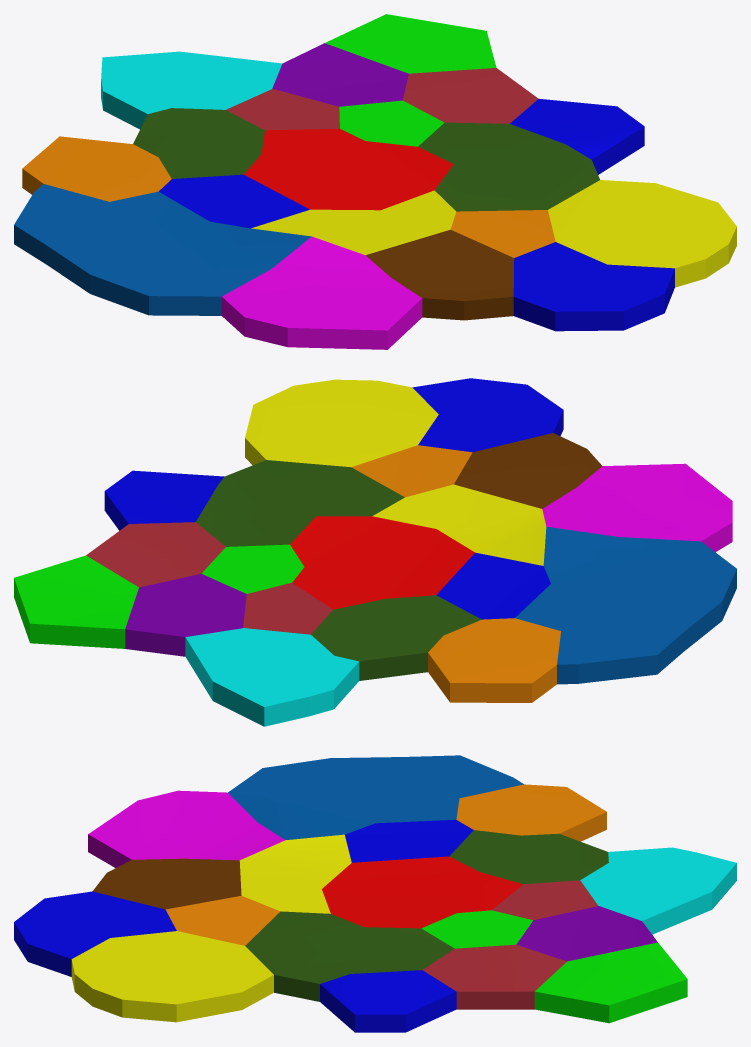
Rendered from glacial.fbx.
3 renders of one model, top to bottom at view 1: azimuth 30°, elevation 25°; view 2: azimuth 150°, elevation 25°; view 3: azimuth 270°, elevation 25°, orthographic. The views are drawn at different scales.
Parts seen in each view (by area): view 1: polySurface11, polySurface9, polySurface2, polySurface31, polySurface21, polySurface4, polySurface36, polySurface7, polySurface35, polySurface13, polySurface25, polySurface17 (+7 smaller); view 2: polySurface11, polySurface2, polySurface31, polySurface36, polySurface9, polySurface21, polySurface13, polySurface25, polySurface35, polySurface4, polySurface17, polySurface27 (+7 smaller); view 3: polySurface11, polySurface2, polySurface21, polySurface31, polySurface9, polySurface36, polySurface25, polySurface4, polySurface6, polySurface17, polySurface23, polySurface13 (+7 smaller).
Boxes of the visible parts, x1,y1,x2,y2 form: polySurface11: (14, 184, 311, 315); polySurface9: (221, 236, 422, 349); polySurface2: (548, 180, 736, 287); polySurface31: (244, 128, 453, 210); polySurface21: (418, 122, 599, 211); polySurface4: (513, 242, 674, 331); polySurface36: (101, 51, 282, 129); polySurface7: (365, 229, 514, 320); polySurface35: (133, 108, 264, 178); polySurface13: (22, 136, 171, 201); polySurface25: (325, 14, 496, 73); polySurface17: (251, 190, 456, 255); polySurface11: (515, 526, 736, 684); polySurface2: (245, 379, 438, 467); polySurface31: (290, 516, 474, 609); polySurface36: (185, 628, 359, 726); polySurface9: (542, 463, 732, 552); polySurface21: (196, 460, 404, 546); polySurface13: (428, 618, 560, 702); polySurface25: (14, 555, 138, 648); polySurface35: (311, 595, 481, 680); polySurface4: (412, 378, 563, 452); polySurface17: (372, 484, 546, 565); polySurface27: (125, 573, 246, 656); polySurface11: (228, 755, 523, 840); polySurface2: (71, 931, 273, 1022); polySurface21: (245, 911, 454, 1001); polySurface31: (322, 856, 522, 928); polySurface9: (88, 790, 284, 867); polySurface36: (580, 847, 736, 934); polySurface25: (534, 942, 687, 1023); polySurface4: (14, 891, 176, 976); polySurface6: (320, 970, 456, 1032); polySurface17: (239, 834, 351, 913); polySurface23: (422, 944, 566, 1009); polySurface13: (456, 784, 606, 841).
Size of the model in its own units: 56.92 by 2.76 by 67.06.
